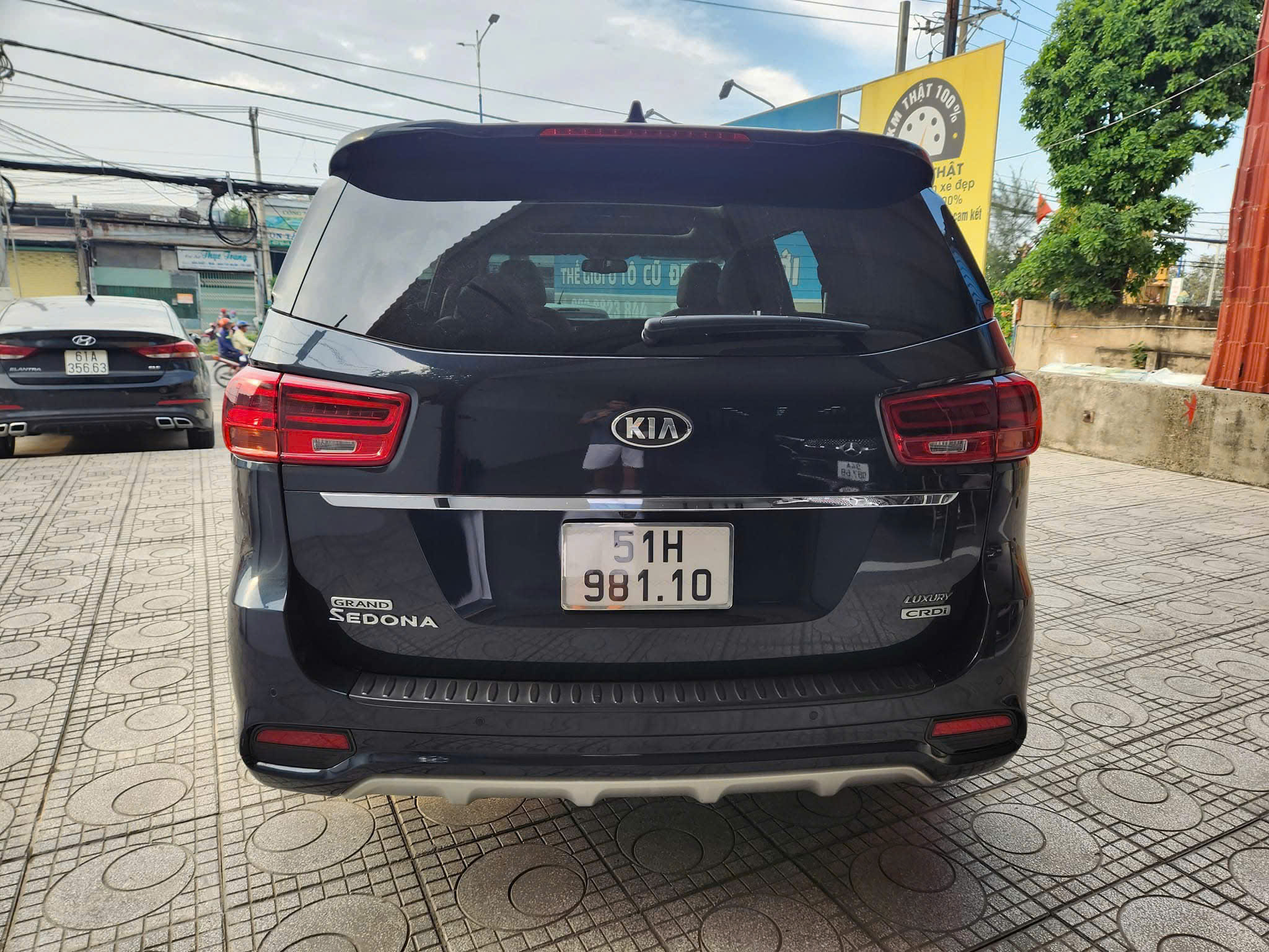Bien-so: (555, 521, 738, 619), (60, 345, 110, 379)
